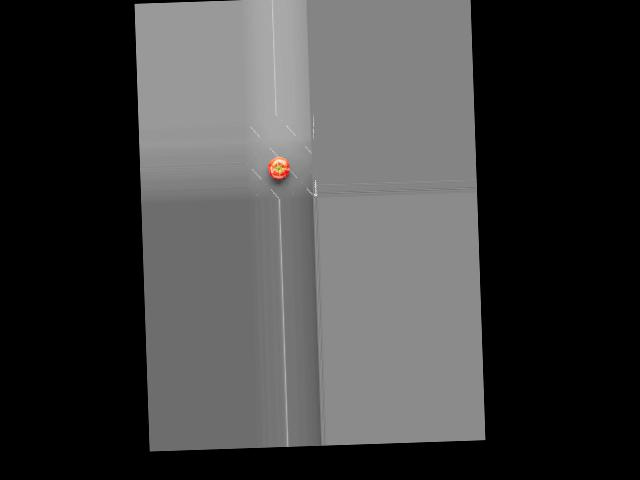tomato: (267, 155, 290, 179)
